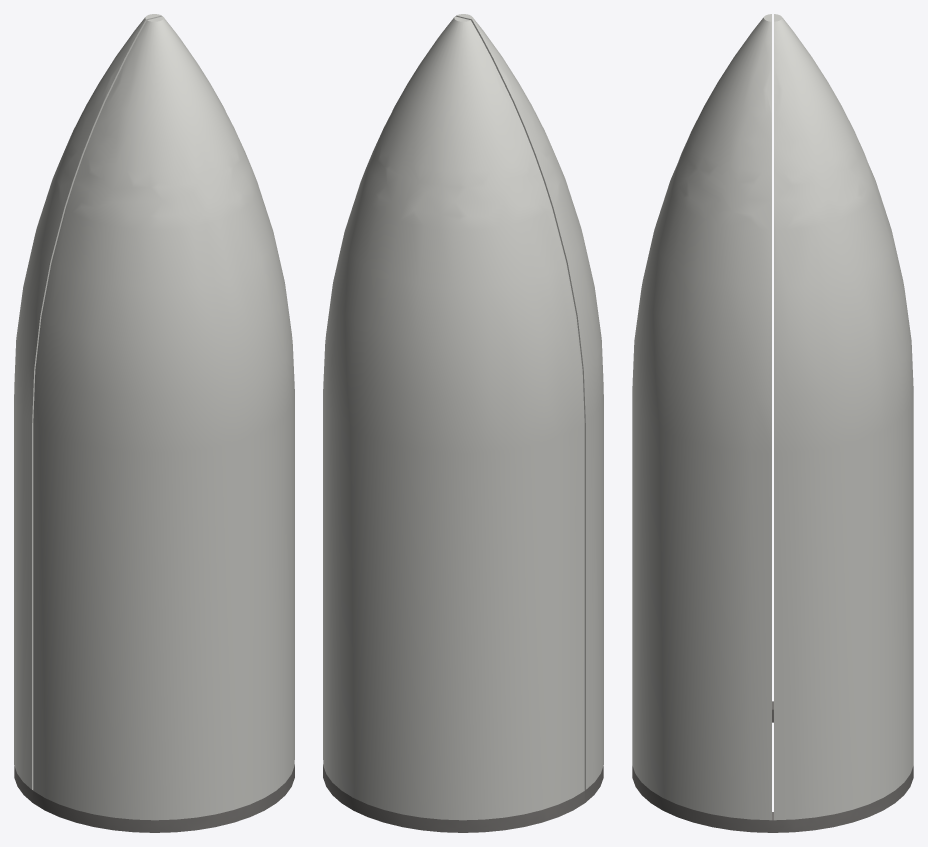
File: stage04_fairing_s.glb
3 views of the same model, side by side, from view 1: azimuth 30°, elevation 25°; view 2: azimuth 150°, elevation 25°; view 3: azimuth 270°, elevation 25° (orthographic).
Visible parts, largest first — view 1: half_b, half_a, base_ring; view 2: half_a, half_b, base_ring; view 3: half_a, half_b, base_ring.
Boxes of the visible parts, box(x1,y1,x2,y2) form: half_b: box(33, 16, 294, 820); half_a: box(14, 14, 162, 789); base_ring: box(14, 764, 294, 832); half_a: box(323, 16, 584, 820); half_b: box(455, 14, 603, 789); base_ring: box(323, 764, 603, 832); half_a: box(774, 14, 913, 820); half_b: box(632, 14, 771, 820); base_ring: box(632, 701, 913, 832).
Size of the model in its own units: 1.25 by 3.71 by 1.25.
2 materials, 1 textured.
